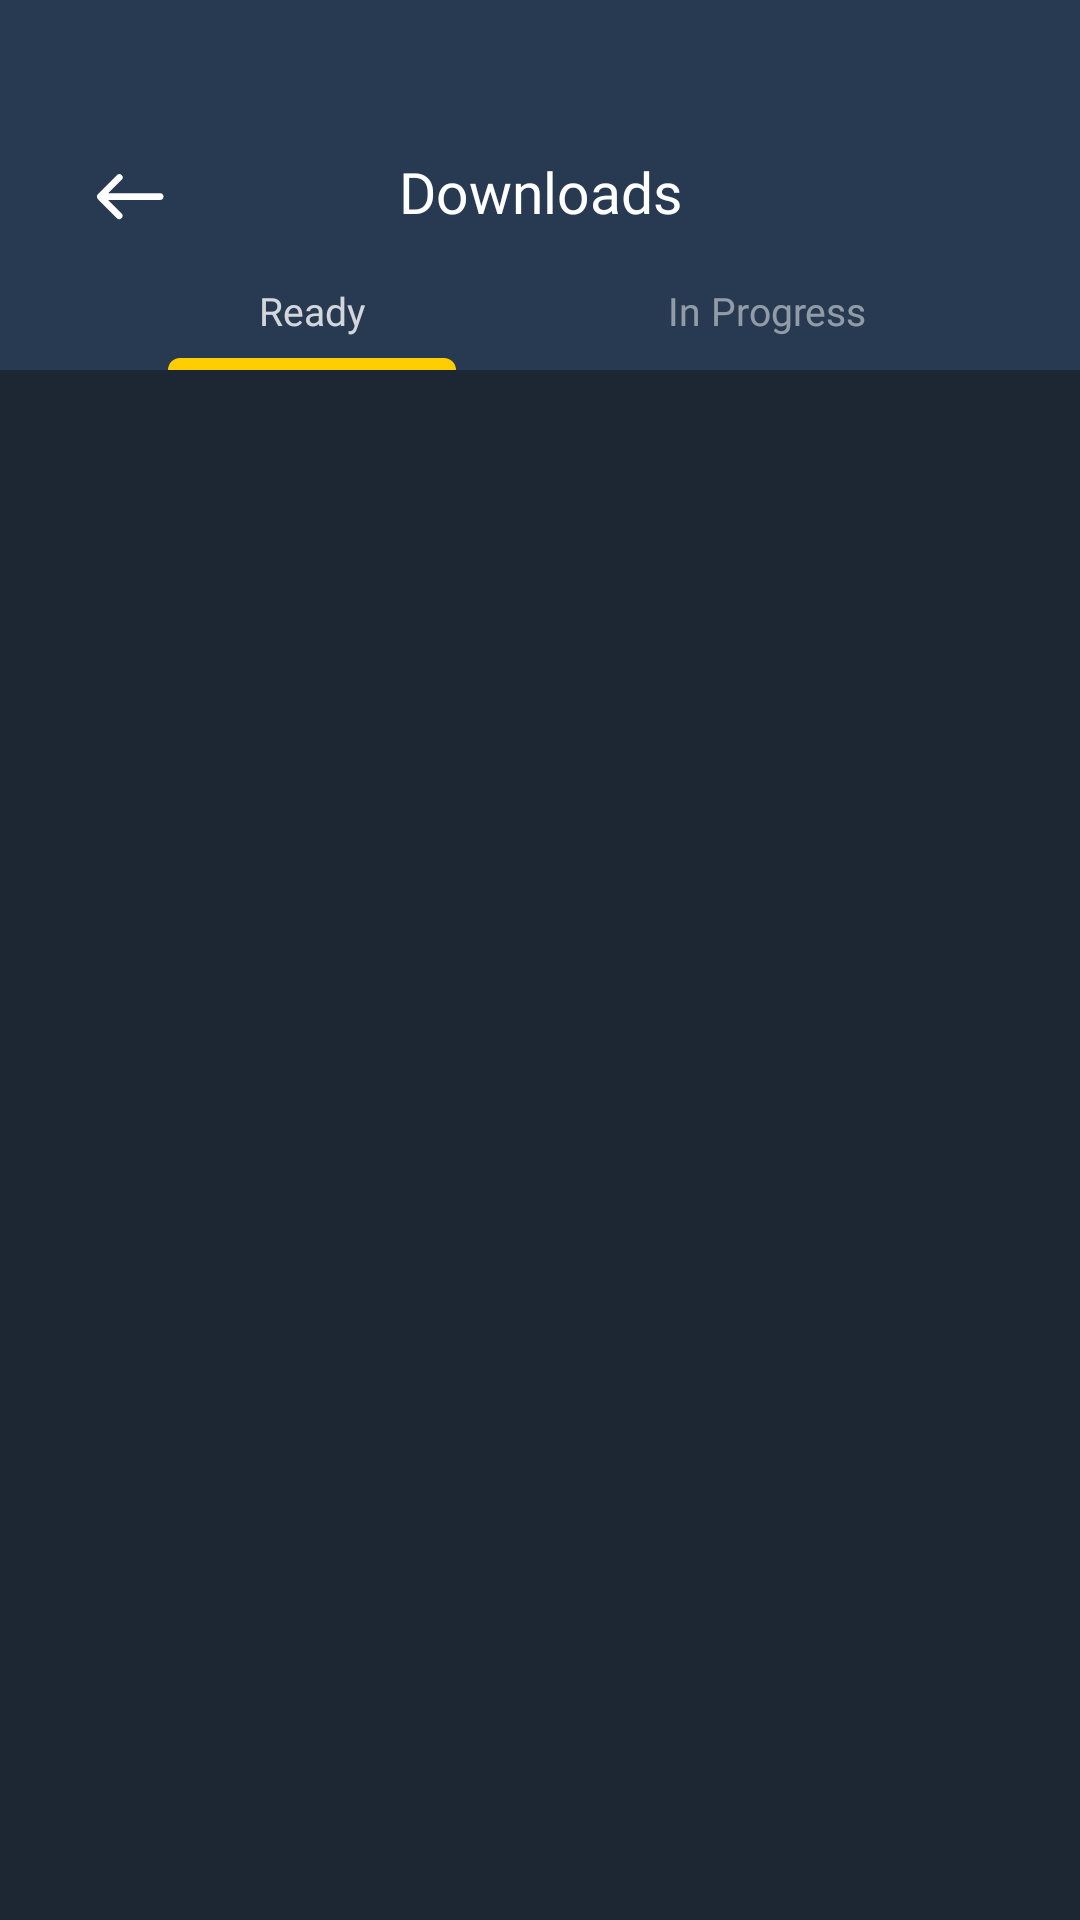

Named icons in this screenshot (1080×1920) and their bounding boxes, [left=x1, top=y1, right=x2, bottom=y2]:
arrow: [left=97, top=174, right=164, bottom=220]
